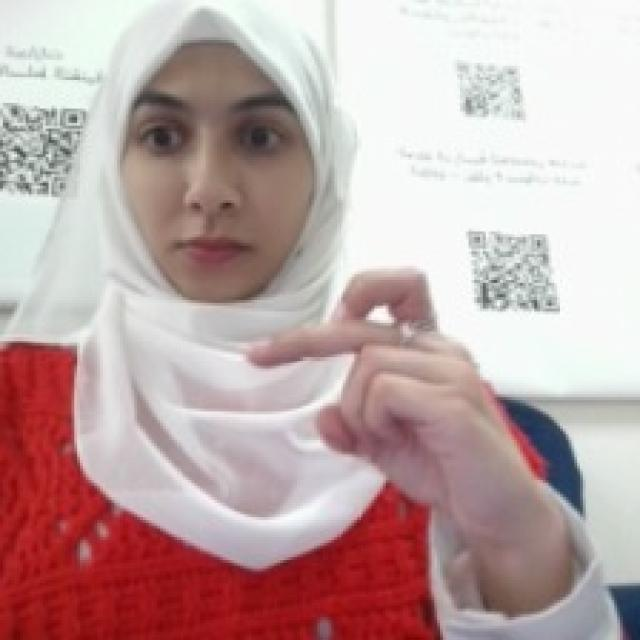sunday: (235, 252, 494, 494)
